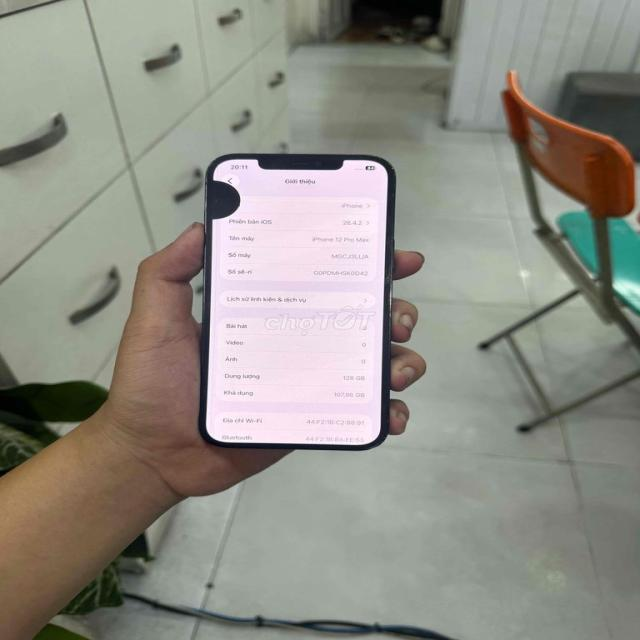gen_12_13: (200, 146, 400, 462)
